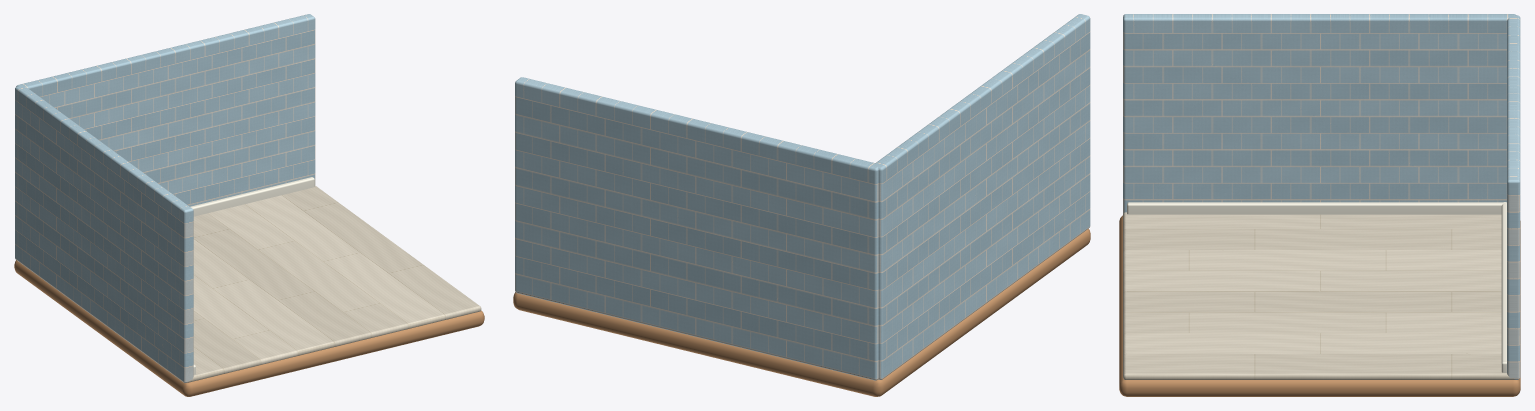
The model's file is room12.glb.
The picture shows the model from 3 angles, left to right: view 1: azimuth 30°, elevation 25°; view 2: azimuth 150°, elevation 25°; view 3: azimuth 270°, elevation 25°; orthographic projection. The views are drawn at different scales.
Visible parts, largest first — view 1: Back wall, Cream floor, Left wall, Rounded room foundation, Back skirting; view 2: Back wall, Left wall, Rounded room foundation; view 3: Left wall, Cream floor, Rounded room foundation, Back wall, Left skirting, Back skirting.
Part boxes in pixels (x1,y1,x2,y2): Back wall: (16, 14, 315, 206); Cream floor: (188, 185, 481, 382); Left wall: (15, 85, 193, 382); Rounded room foundation: (14, 260, 484, 396); Back skirting: (190, 177, 314, 216); Back wall: (515, 77, 879, 380); Left wall: (874, 14, 1090, 379); Rounded room foundation: (513, 229, 1090, 396); Left wall: (1123, 14, 1515, 213); Cream floor: (1123, 212, 1514, 379); Rounded room foundation: (1119, 215, 1520, 396); Back wall: (1507, 15, 1520, 379); Left skirting: (1127, 202, 1506, 214); Back skirting: (1501, 202, 1506, 372).
Size of the model in its own units: 5.1 by 3.04 by 5.1.
Materials: 4 (2 with a texture image).
